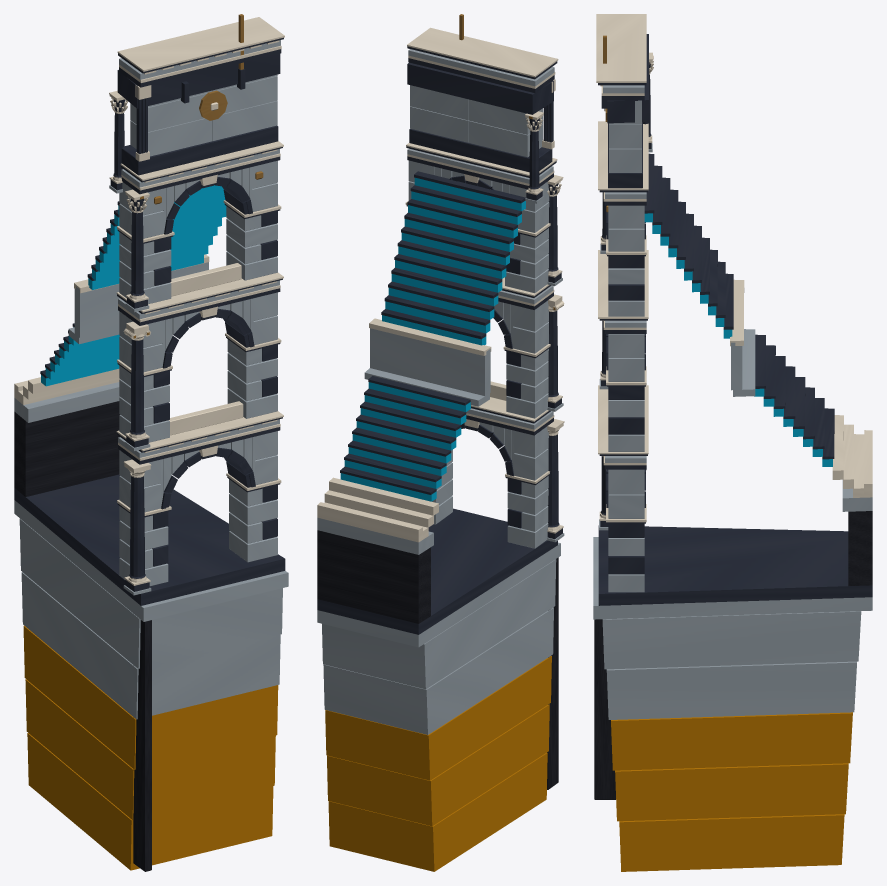
The model's file is UMOD_02_Standard_Clipeus_Bay.glb.
3 renders of one model, left to right at view 1: azimuth 30°, elevation 25°; view 2: azimuth 150°, elevation 25°; view 3: azimuth 270°, elevation 25°, orthographic. The views are drawn at different scales.
Visible parts, largest first — view 1: UMOD_02_Standard_Clipeus_Bay; view 2: UMOD_02_Standard_Clipeus_Bay; view 3: UMOD_02_Standard_Clipeus_Bay.
Boxes of the visible parts, bbox=[...] form: UMOD_02_Standard_Clipeus_Bay: bbox=[14, 14, 288, 871]; UMOD_02_Standard_Clipeus_Bay: bbox=[317, 14, 564, 871]; UMOD_02_Standard_Clipeus_Bay: bbox=[593, 14, 872, 871].
Size of the model in its own units: 18.47 by 96.54 by 29.95.
Materials: 7 (7 with a texture image).
